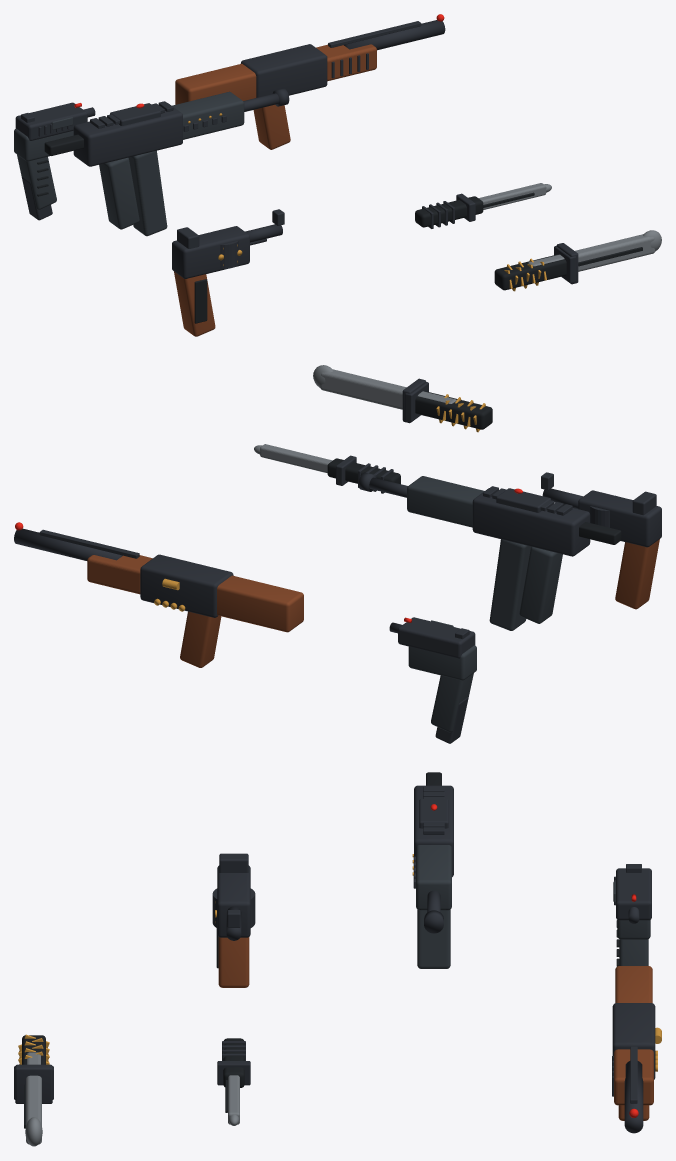
File: weapon_pack_detailed.fbx
The picture shows the model from 3 angles, top to bottom: view 1: azimuth 30°, elevation 25°; view 2: azimuth 150°, elevation 25°; view 3: azimuth 270°, elevation 25°; orthographic projection. The views are drawn at different scales.
Parts seen in each view (by area): view 1: ARP_Receiver, Shotgun_Receiver, Revolver_Frame, ARP_Mag, Shotgun_Stock, ARP_Handguard, ARP_Grip, Machete_Blade, Handgun_Slide, Revolver_Grip, Shotgun_Pump, Machete_Handle (+11 smaller); view 2: ARP_Receiver, Shotgun_Receiver, Shotgun_Stock, ARP_Mag, ARP_Handguard, Revolver_Frame, ARP_Grip, Machete_Blade, Revolver_Grip, Handgun_Slide, Shotgun_Pump, Shotgun_Grip (+10 smaller); view 3: ARP_Handguard, Shotgun_Receiver, Revolver_Frame, Handgun_Slide, ARP_Mag, Revolver_Grip, Shotgun_Pump, Shotgun_Stock, ARP_Receiver, Shotgun_Barrel, Machete_Guard, Machete_Blade (+5 smaller).
Boxes of the visible parts, bbox=[...] form: ARP_Receiver: bbox=[73, 103, 182, 166]; Shotgun_Receiver: bbox=[240, 44, 327, 97]; Revolver_Frame: bbox=[172, 226, 249, 278]; ARP_Mag: bbox=[128, 150, 167, 236]; Shotgun_Stock: bbox=[175, 63, 256, 104]; ARP_Handguard: bbox=[172, 91, 244, 139]; ARP_Grip: bbox=[99, 157, 139, 229]; Machete_Blade: bbox=[528, 234, 655, 271]; Handgun_Slide: bbox=[15, 102, 87, 140]; Revolver_Grip: bbox=[174, 271, 215, 336]; Shotgun_Pump: bbox=[316, 44, 376, 81]; Machete_Handle: bbox=[494, 254, 566, 290]; ARP_Receiver: bbox=[472, 488, 590, 556]; Shotgun_Receiver: bbox=[140, 554, 233, 617]; Shotgun_Stock: bbox=[217, 575, 303, 632]; ARP_Mag: bbox=[489, 539, 530, 630]; ARP_Handguard: bbox=[407, 476, 484, 527]; Revolver_Frame: bbox=[578, 490, 661, 547]; ARP_Grip: bbox=[519, 546, 562, 623]; Machete_Blade: bbox=[320, 369, 456, 409]; Revolver_Grip: bbox=[615, 539, 659, 609]; Handgun_Slide: bbox=[398, 617, 475, 658]; Shotgun_Pump: bbox=[87, 555, 152, 594]; Shotgun_Grip: bbox=[180, 611, 221, 667]; ARP_Handguard: bbox=[416, 845, 451, 910]; Shotgun_Receiver: bbox=[612, 1003, 655, 1079]; Revolver_Frame: bbox=[217, 865, 250, 937]; Handgun_Slide: bbox=[616, 868, 651, 920]; ARP_Mag: bbox=[417, 909, 450, 968]; Revolver_Grip: bbox=[218, 937, 249, 987]; Shotgun_Pump: bbox=[614, 1049, 653, 1105]; Shotgun_Stock: bbox=[615, 966, 652, 1002]; ARP_Receiver: bbox=[414, 785, 453, 876]; Shotgun_Barrel: bbox=[624, 1061, 643, 1133]; Machete_Guard: bbox=[15, 1064, 52, 1103]; Machete_Blade: bbox=[26, 1052, 41, 1144].
Bounding box in the file's own units: 10.05 × 3.38 × 9.72.
